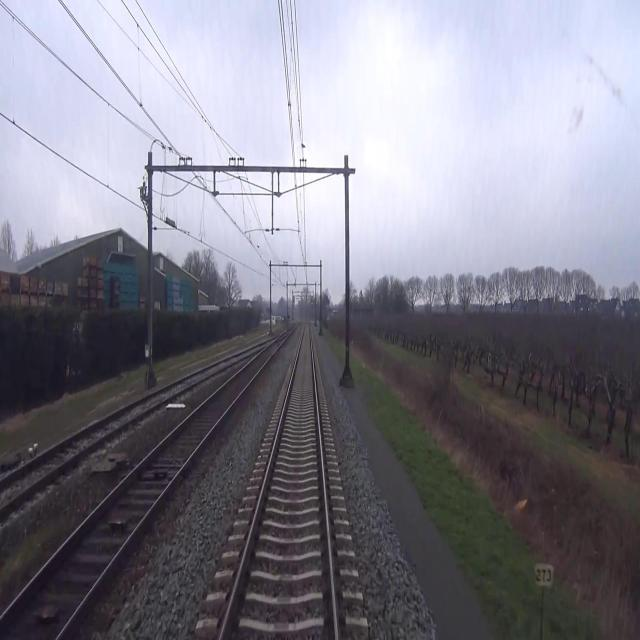rail-track: (0, 341, 280, 639), (0, 353, 244, 504), (223, 323, 333, 639)
